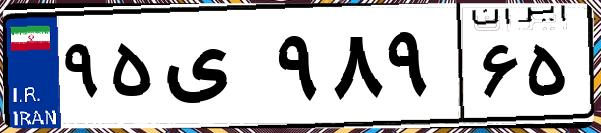5: (525, 38, 570, 115), (110, 28, 158, 98)
6: (475, 38, 525, 113)
8: (330, 28, 385, 110)
9: (270, 28, 330, 110), (385, 28, 445, 110), (57, 26, 110, 100)
ی: (158, 20, 270, 120)
